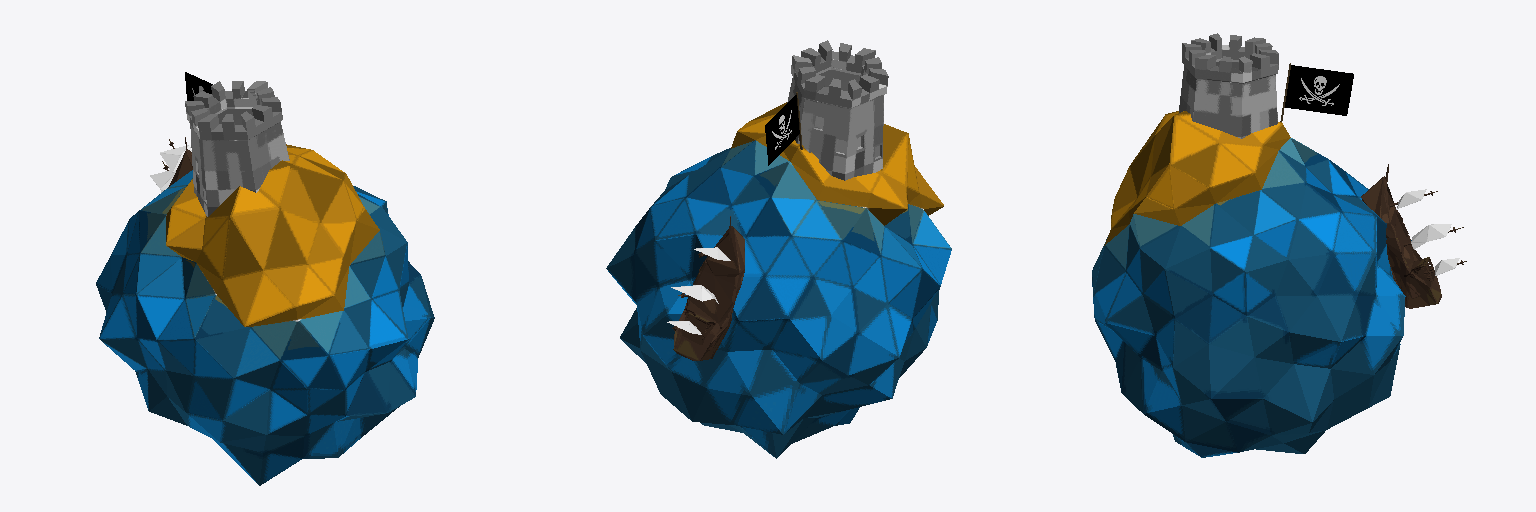
3 views of the same model, side by side, from view 1: azimuth 30°, elevation 25°; view 2: azimuth 150°, elevation 25°; view 3: azimuth 270°, elevation 25° (orthographic).
Visible parts, largest first — view 1: is_planet, Tower, Ship; view 2: is_planet, Tower, Ship, flag; view 3: is_planet, Tower, Ship, flag.
Boxes of the visible parts, <box> form: is_planet: <box>96,144,434,485</box>; Tower: <box>185,81,289,216</box>; Ship: <box>150,137,192,192</box>; is_planet: <box>606,102,951,458</box>; Tower: <box>787,40,888,180</box>; Ship: <box>667,216,744,360</box>; flag: <box>765,92,802,165</box>; is_planet: <box>1092,111,1411,457</box>; Tower: <box>1179,33,1278,138</box>; Ship: <box>1361,164,1466,308</box>; flag: <box>1280,63,1353,121</box>.
Bounding box in the file's own units: 21.55 × 27 × 24.34.
Materials: 1 (1 with a texture image).